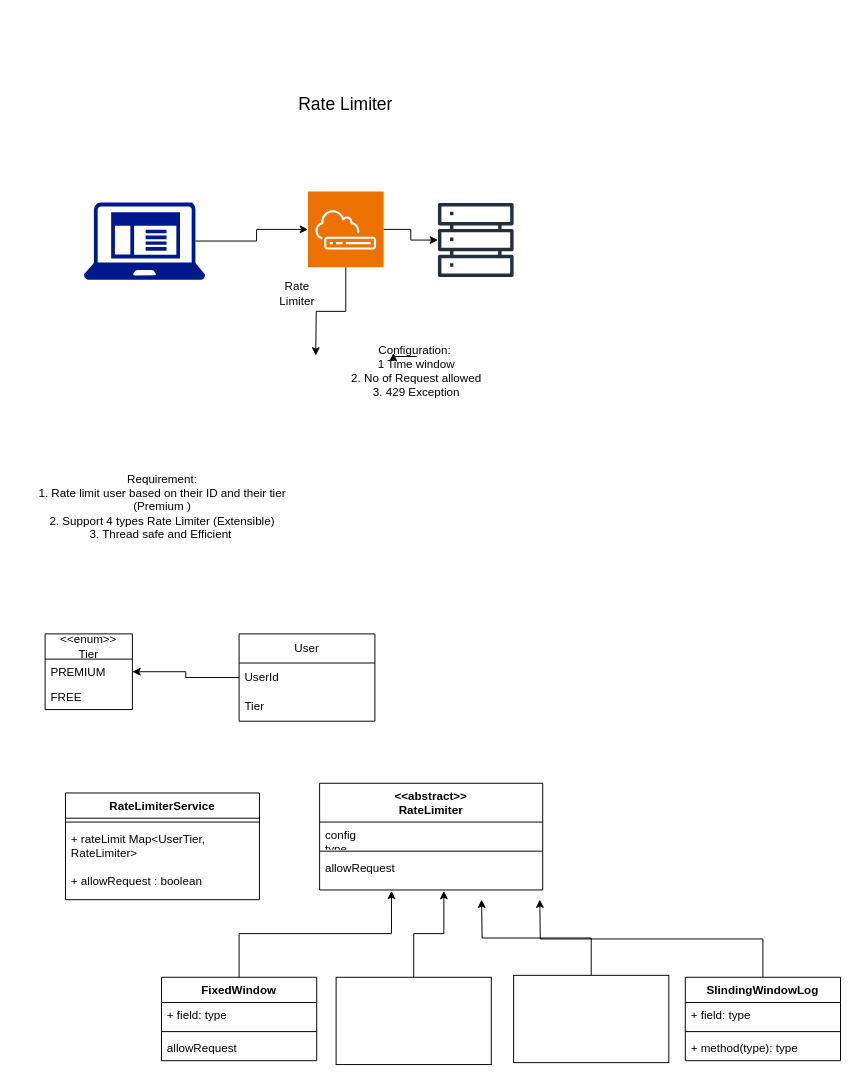
Image size: 857x1082. Some labels were removed from this diagram. Here are the shapes that lost their labels. From the top down, the centre of each, then its label:
pixel 413 1020: TokenBucket + field: Type + method(): Type
pixel 591 1018: SlidingWindowCounter + field: Type + method(): Type
